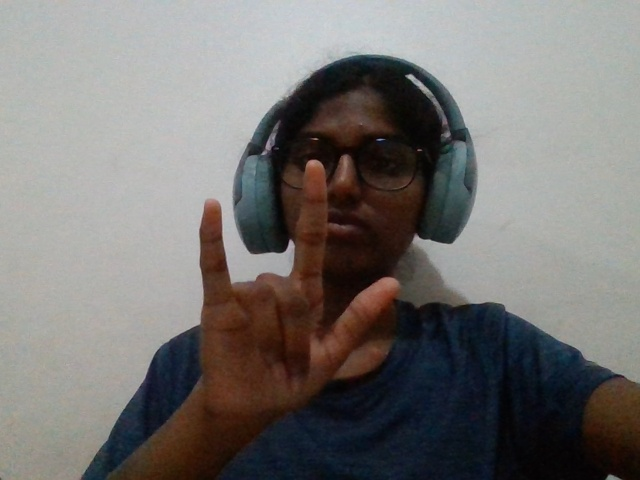I Love You: (145, 133, 420, 475)
